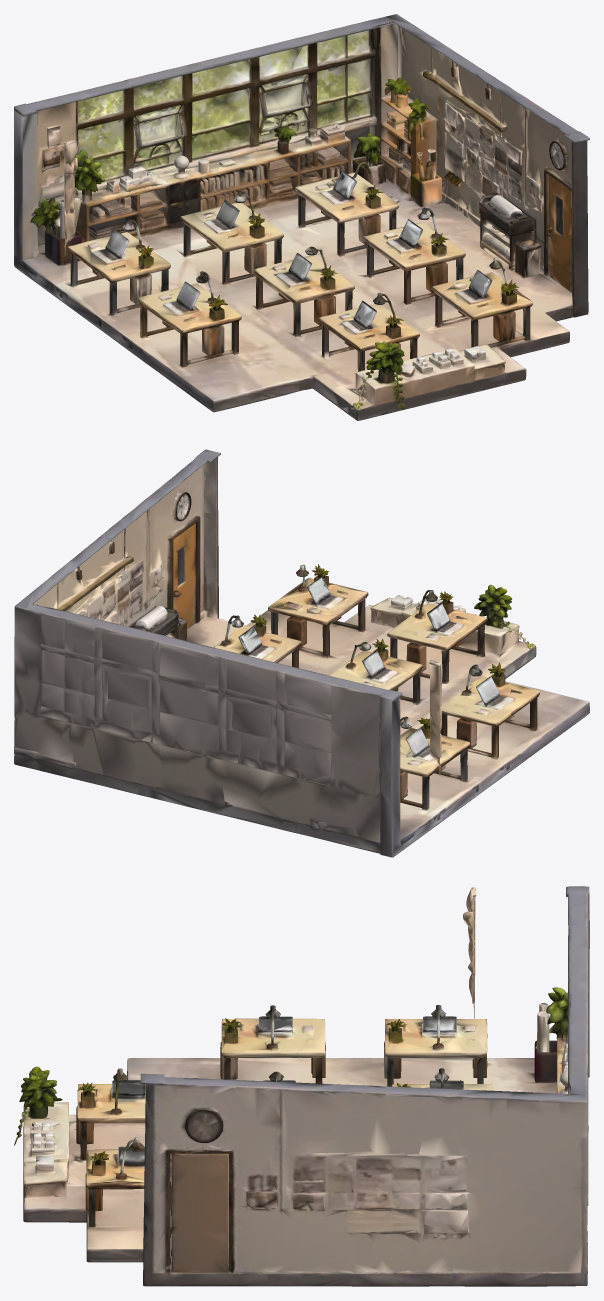
Rendered from studio.glb.
The picture shows the model from 3 angles, top to bottom: view 1: azimuth 30°, elevation 25°; view 2: azimuth 150°, elevation 25°; view 3: azimuth 270°, elevation 25°; orthographic projection. The views are drawn at different scales.
Parts seen in each view (by area): view 1: tripo_node_d162f5e4-625b-489b-917c-4b1ffeff2965; view 2: tripo_node_d162f5e4-625b-489b-917c-4b1ffeff2965; view 3: tripo_node_d162f5e4-625b-489b-917c-4b1ffeff2965.
Part boxes in pixels (bbox=[...]): tripo_node_d162f5e4-625b-489b-917c-4b1ffeff2965: bbox=[14, 14, 589, 420]; tripo_node_d162f5e4-625b-489b-917c-4b1ffeff2965: bbox=[14, 449, 589, 857]; tripo_node_d162f5e4-625b-489b-917c-4b1ffeff2965: bbox=[14, 886, 589, 1286].
Bounding box in the file's own units: 0.8778 × 0.3845 × 0.9796.
1 material, 1 textured.
